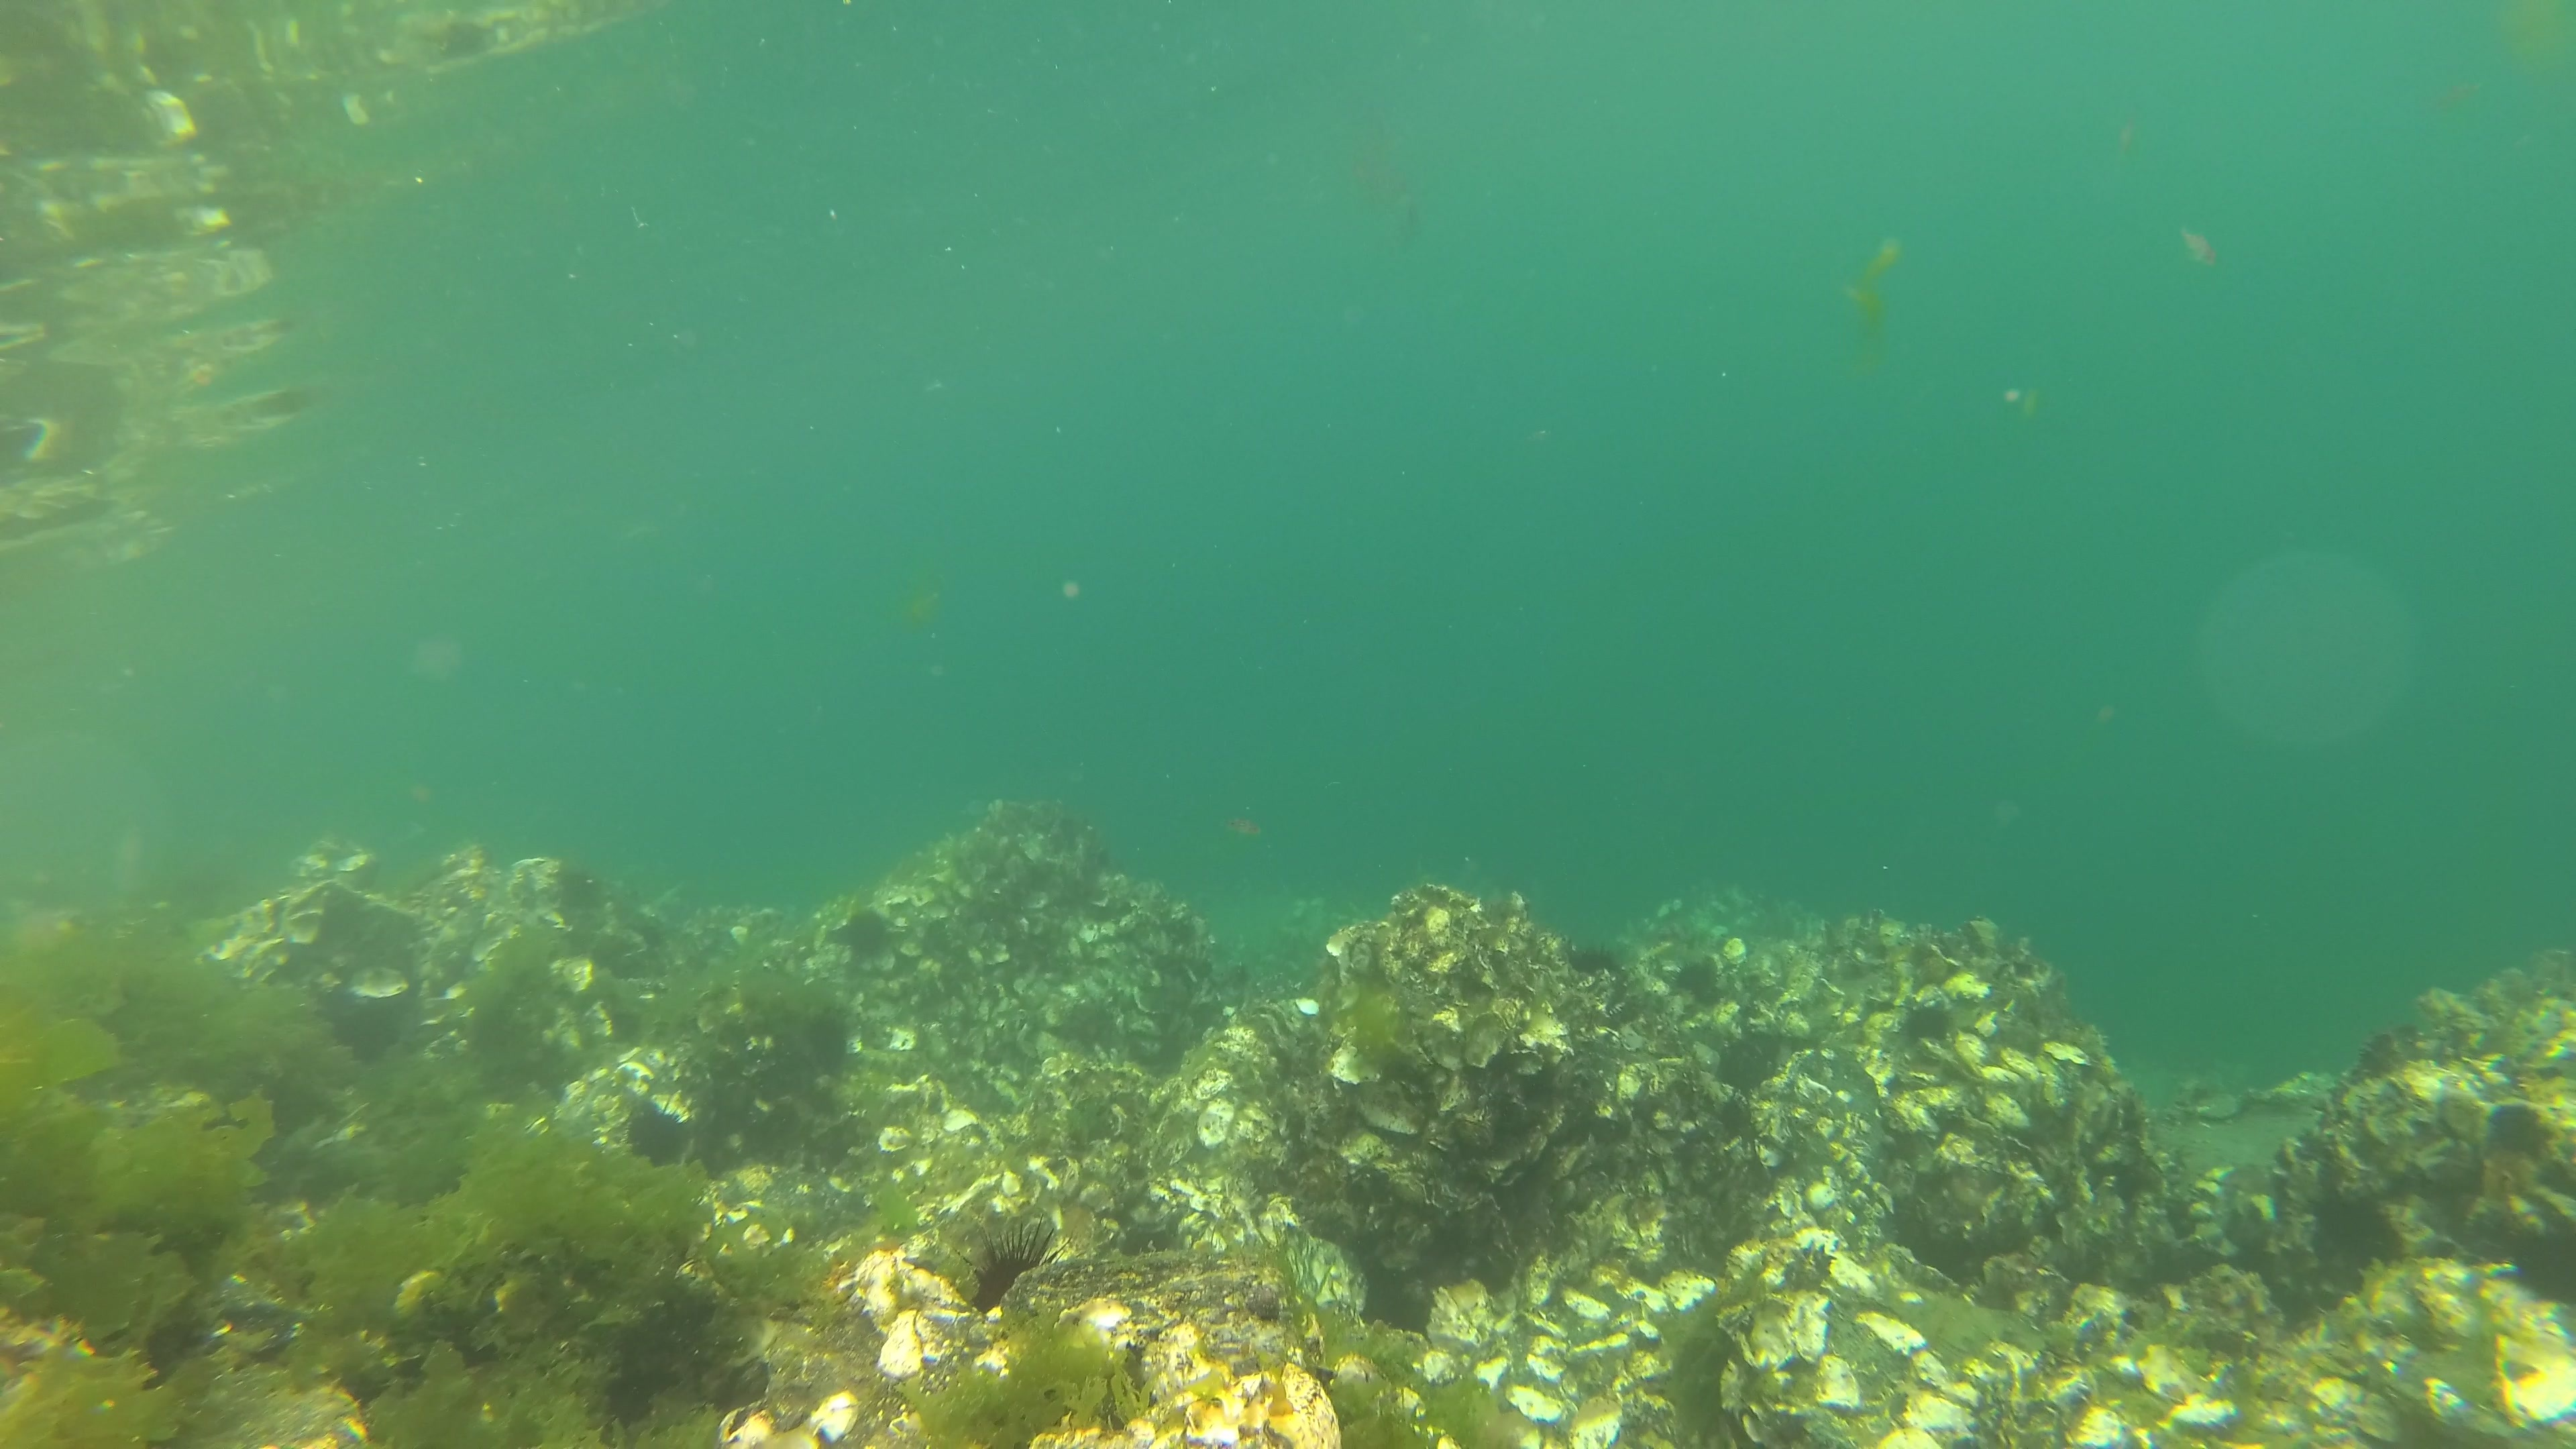echinus: (957, 1215, 1079, 1316), (619, 1099, 699, 1171), (840, 904, 893, 966), (1897, 1000, 1955, 1049), (1564, 941, 1626, 982), (1668, 957, 1718, 1003)
